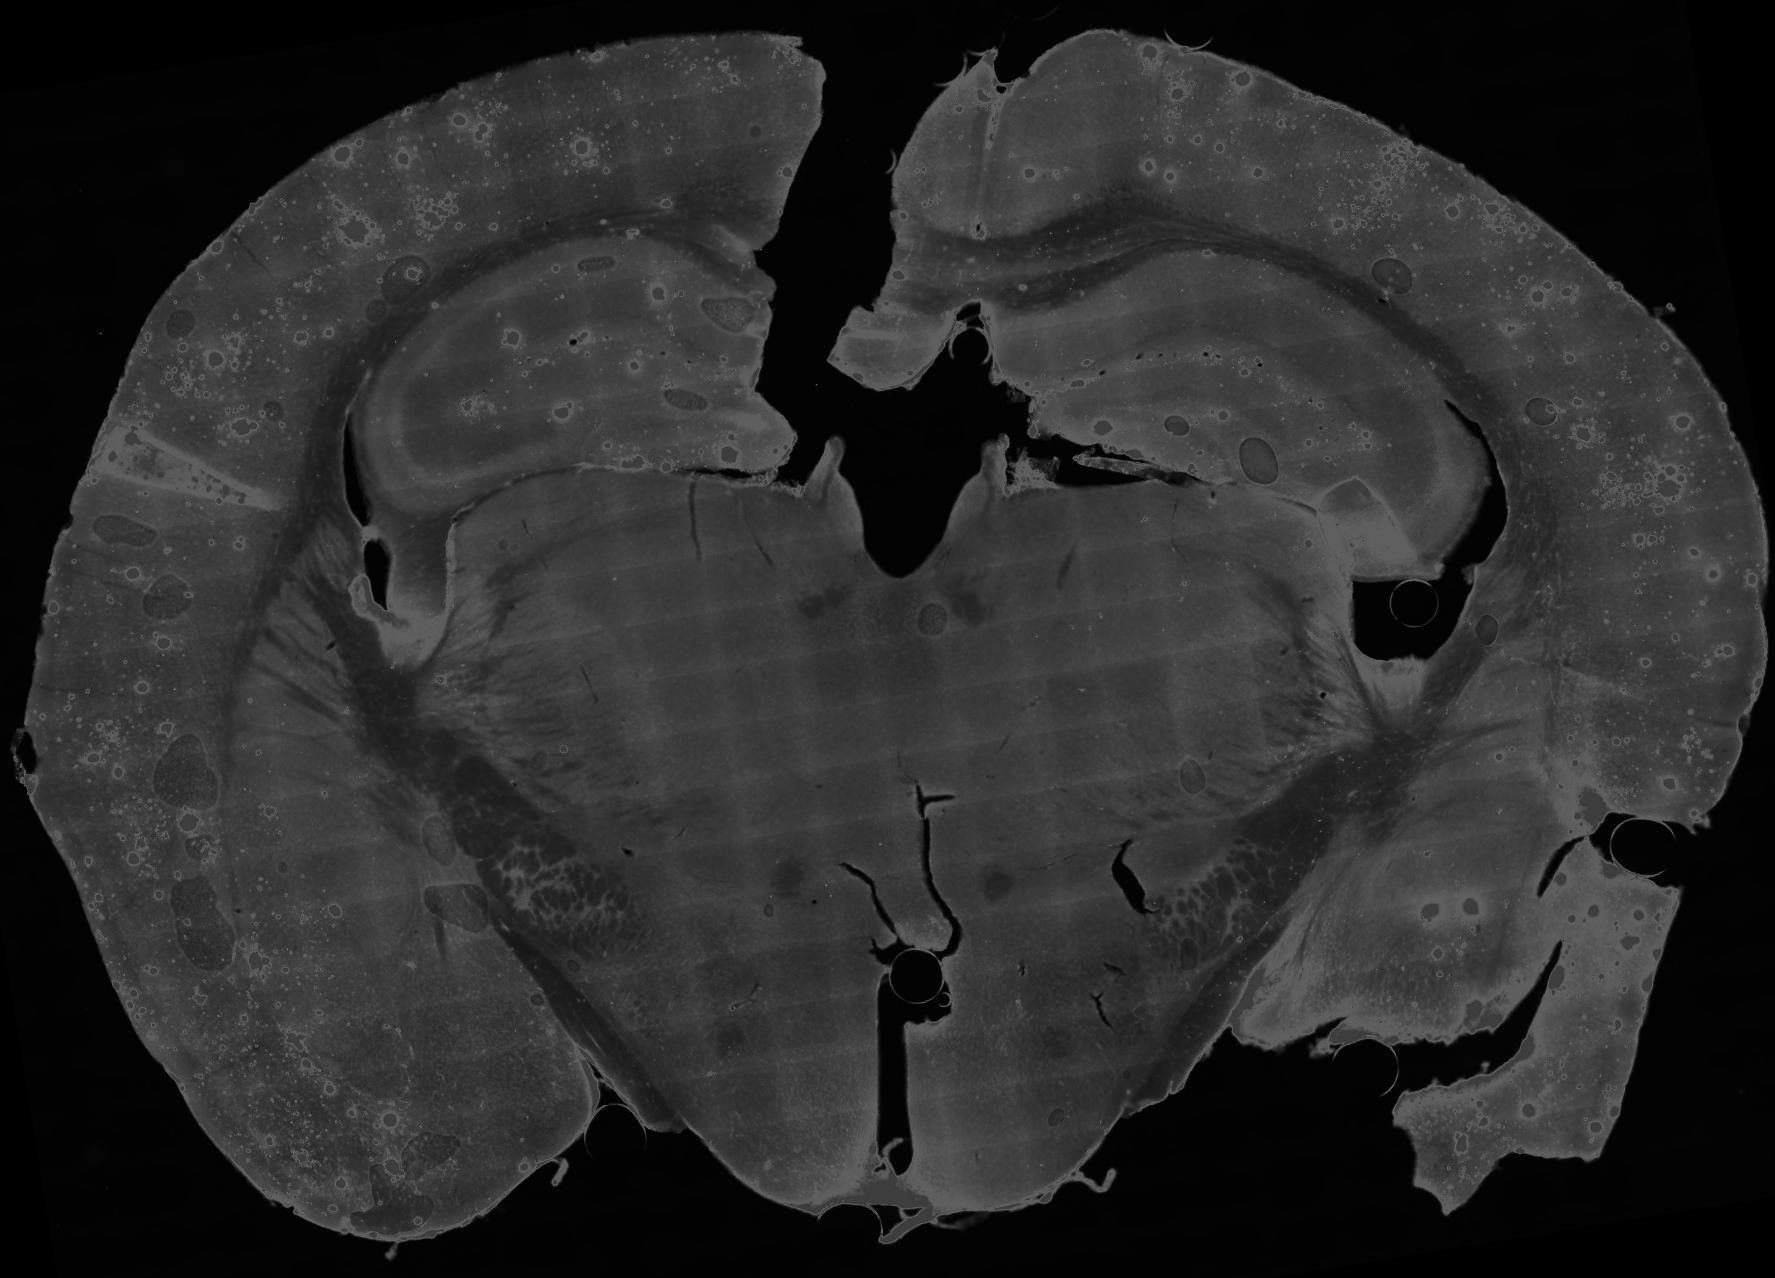Cerebral nuclei: (227, 518, 420, 962)
Hippocampal formation: (984, 252, 1479, 565), (362, 234, 797, 513)
Hypothalamus: (495, 762, 900, 1226), (882, 813, 1249, 1223)
Retrosplenial area: (974, 40, 1098, 243)
Somatosensory area: (1243, 87, 1769, 722), (34, 57, 566, 671)
Thalamus: (896, 436, 1378, 886), (416, 434, 897, 877)
